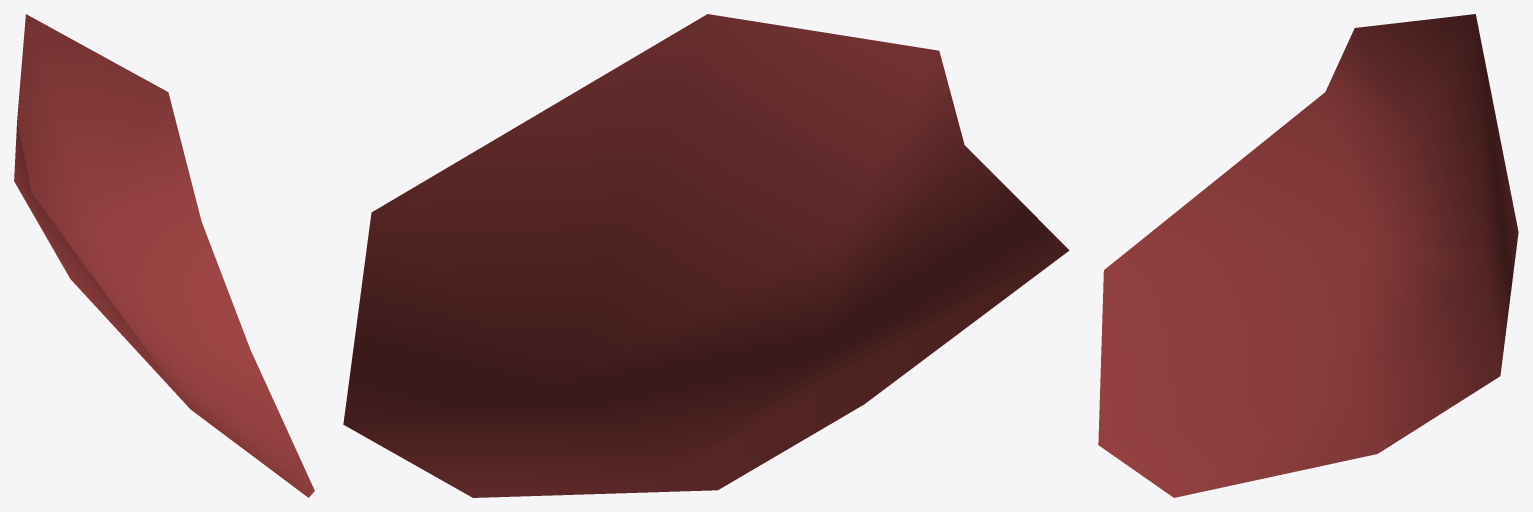
File: abductor-hallucis-el.glb
3 views of the same model, side by side, from view 1: azimuth 30°, elevation 25°; view 2: azimuth 150°, elevation 25°; view 3: azimuth 270°, elevation 25° (orthographic). The views are drawn at different scales.
Visible parts, largest first — view 1: Abductor hallucis.el; view 2: Abductor hallucis.el; view 3: Abductor hallucis.el.
Boxes of the visible parts, x1,y1,x2,y2 form: Abductor hallucis.el: [14, 14, 314, 497]; Abductor hallucis.el: [343, 14, 1069, 497]; Abductor hallucis.el: [1098, 14, 1518, 497].
Size of the model in its own units: 0.00312 by 0.00471 by 0.00434.
